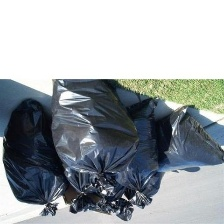plastic_bag: (45, 78, 143, 194), (0, 94, 71, 218), (110, 94, 164, 207), (149, 103, 224, 175), (60, 161, 118, 216)
